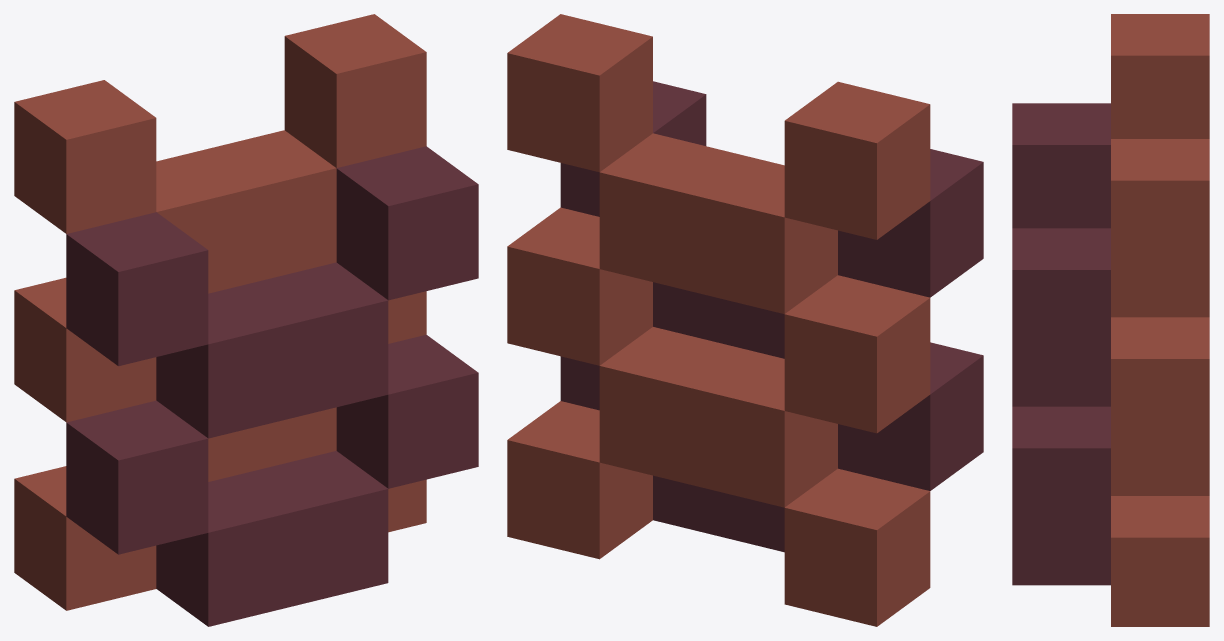
File: NB_TR_F_Braid_Test_02.fbx
3 views of the same model, side by side, from view 1: azimuth 30°, elevation 25°; view 2: azimuth 150°, elevation 25°; view 3: azimuth 270°, elevation 25° (orthographic). The views are drawn at different scales.
Parts seen in each view (by area): view 1: Braid_Test_02; view 2: Braid_Test_02; view 3: Braid_Test_02.
Part boxes in pixels (<box>): Braid_Test_02: <box>14,14,478,626</box>; Braid_Test_02: <box>507,14,983,626</box>; Braid_Test_02: <box>1012,14,1209,626</box>.
Size of the model in its own units: 4 by 5 by 2.
Materials: 1 (1 with a texture image).
